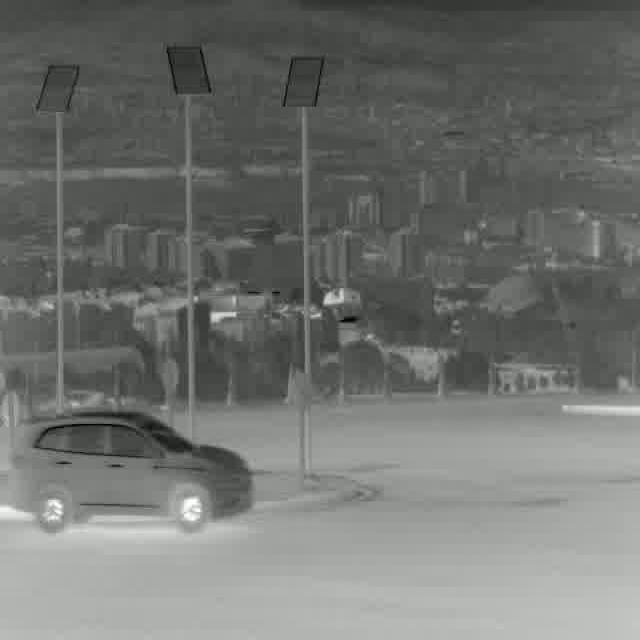Car: (8, 415, 253, 530)
